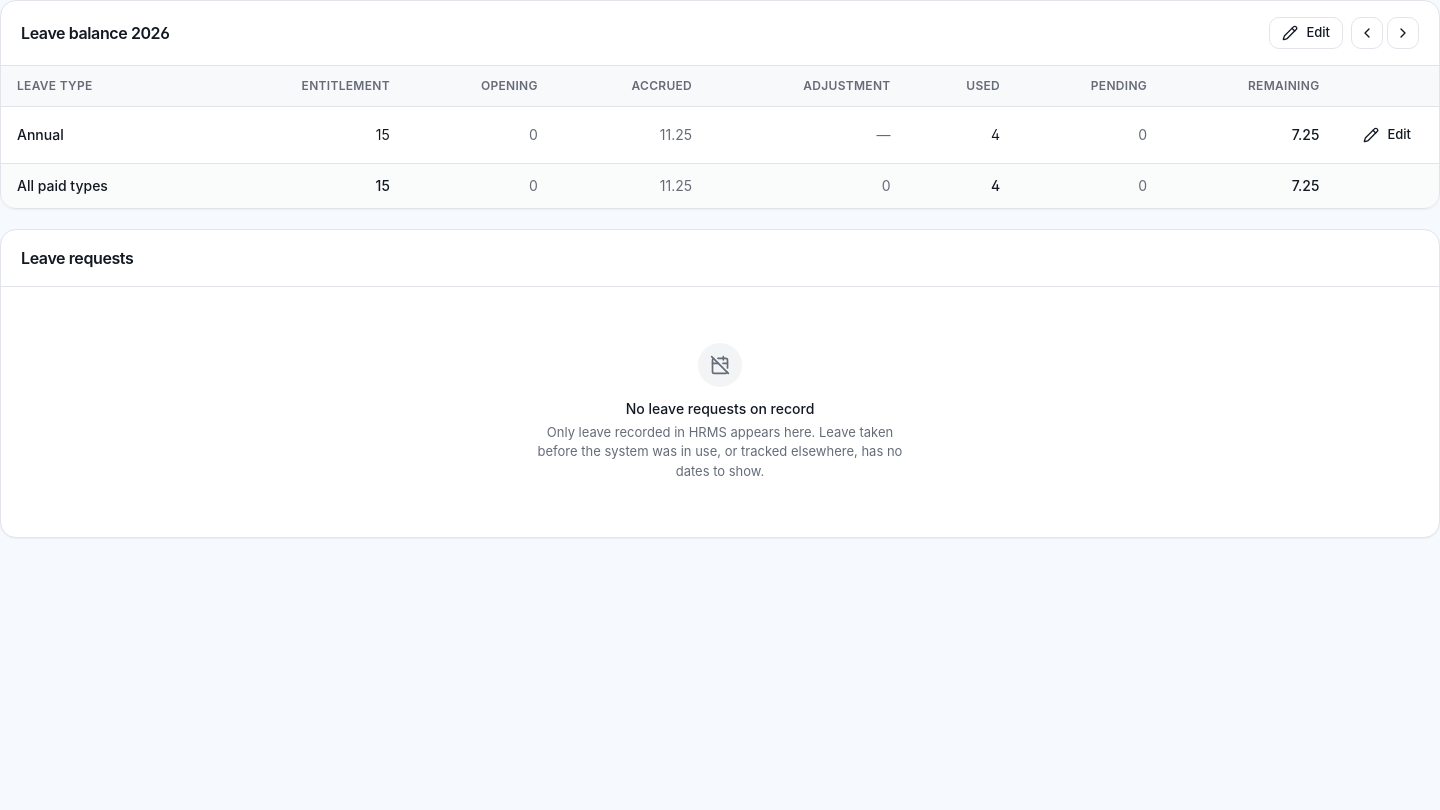
Test: Edit on the Leave tab › is offered to Super Admin, and opens on the current figures
Expected: the text "7.25" in the row of "Annual" is shown, [1292,126,1320,142]
Click the button "Edit" in the row of "2026" at (1306, 33), box [1269,17,1343,49]
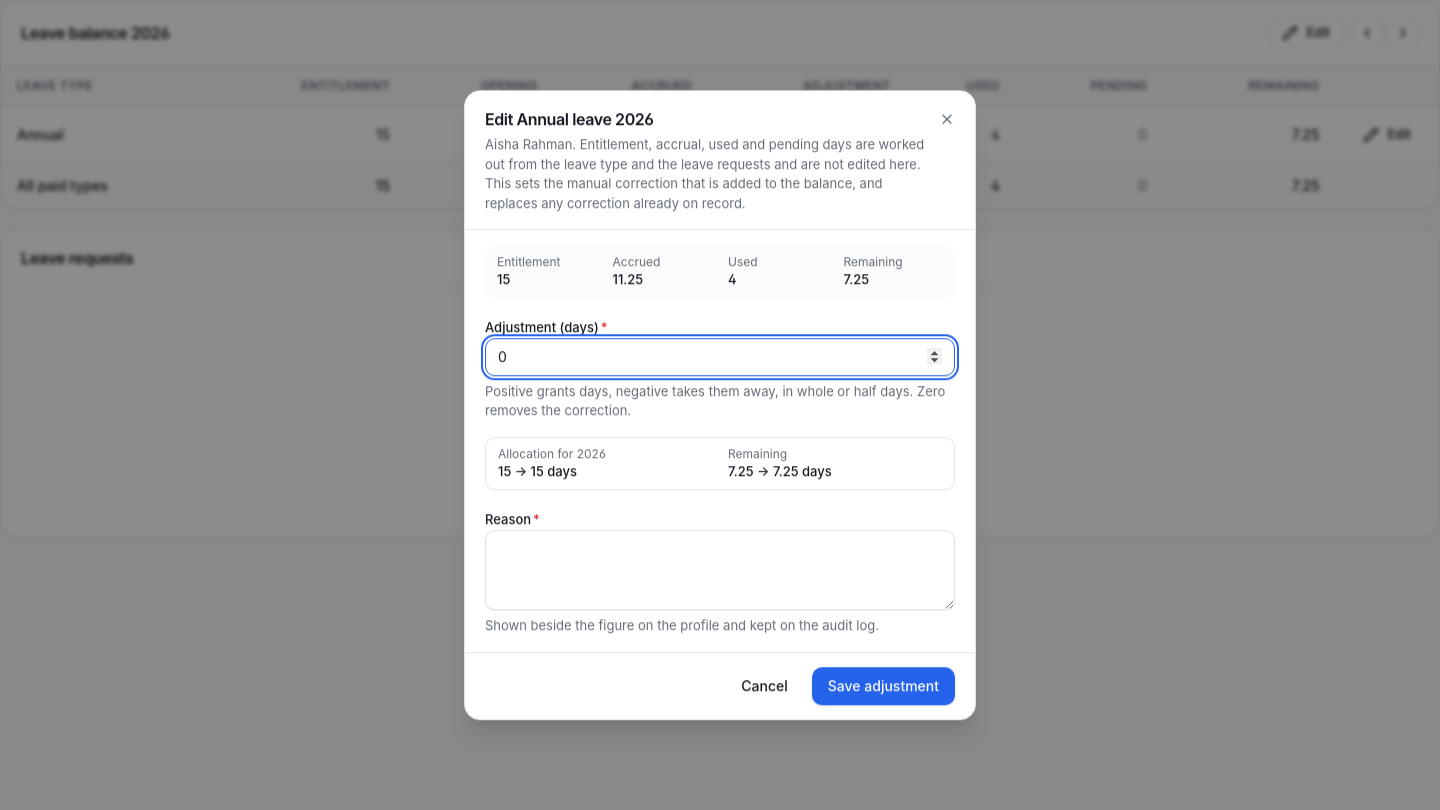
Expected: the dialog is shown, [464,90,976,720]
Expected: the number field labelled "Adjustment (days)*" holds "0", [485,338,955,376]
